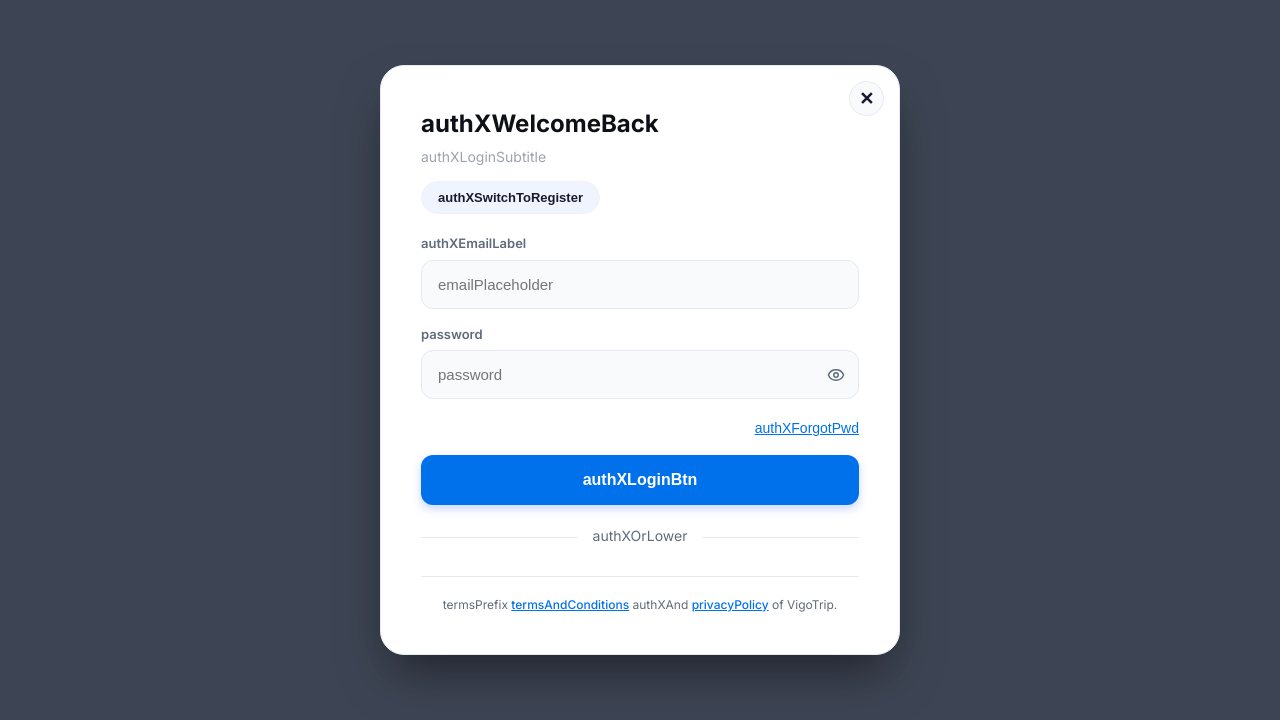
Test: Auth — đăng ký rồi xác thực ngay trong modal › tài khoản bị khóa KHÔNG được hiện nút xác thực (nếu không là tự mở khóa)
Type "nguoi.dung@gmail.com" into the field with placeholder "emailPlaceholder" at coordinates (640, 284), box [421,260,859,309]
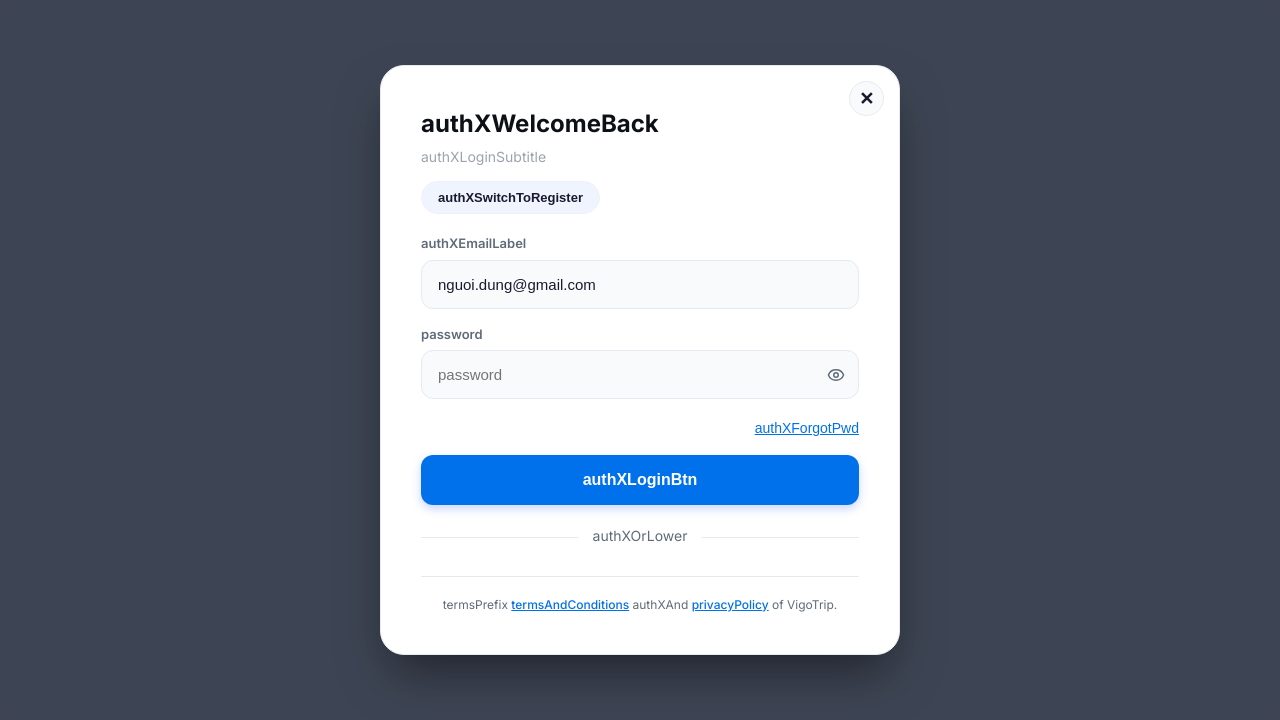
Type "MatKhau1@" into the password field named "password" at coordinates (640, 375), box [421,350,859,399]
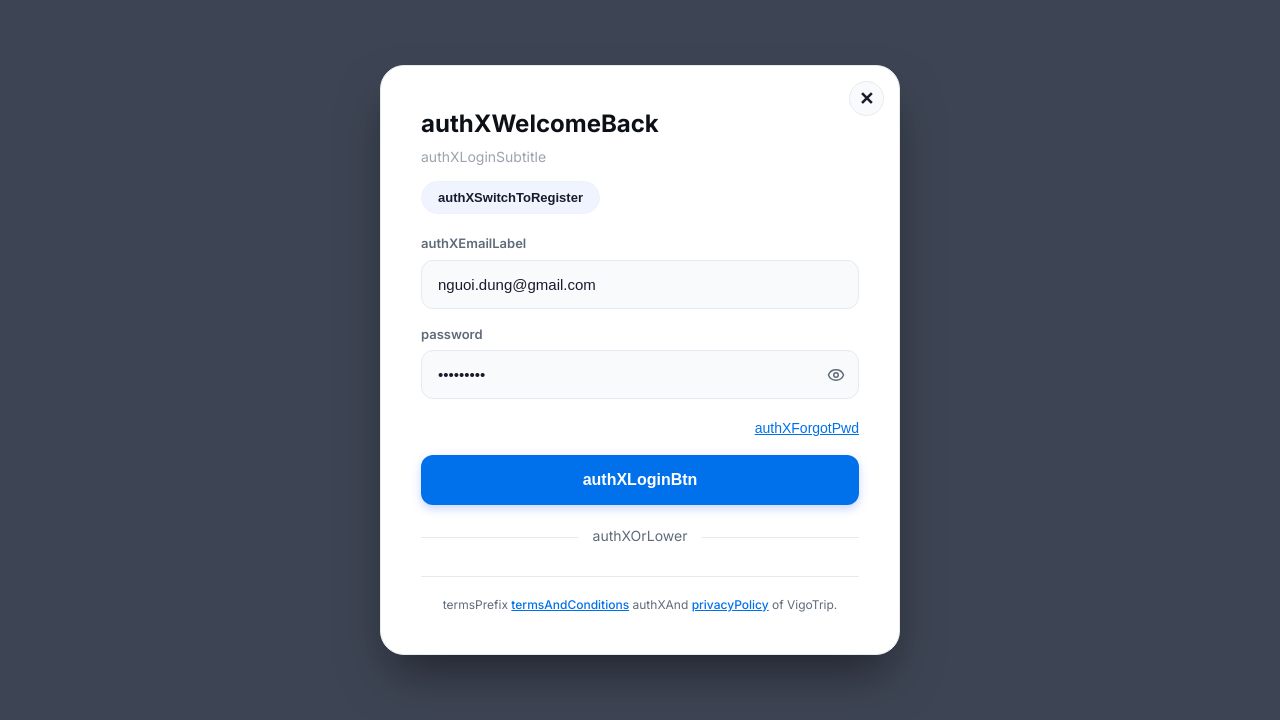
Submit the form named "password", box [421,234,859,525]
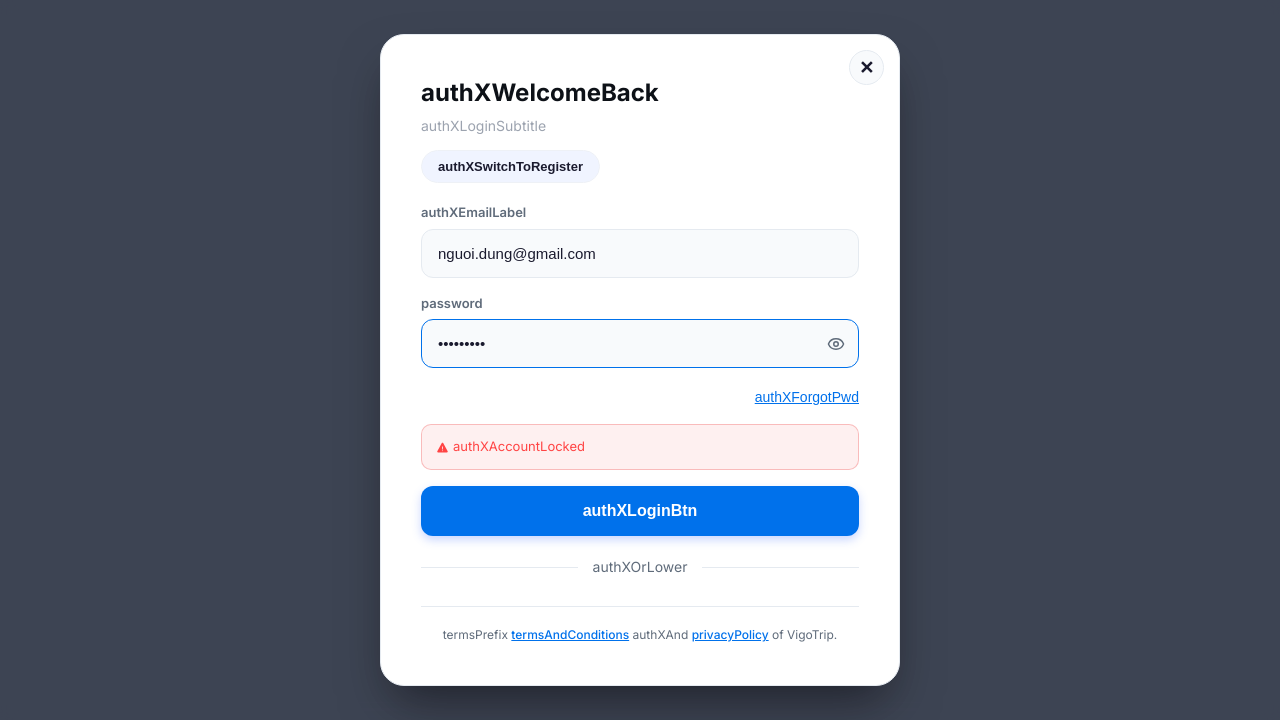
Expected: the text "authXAccountLocked" is shown, [436,438,585,454]
